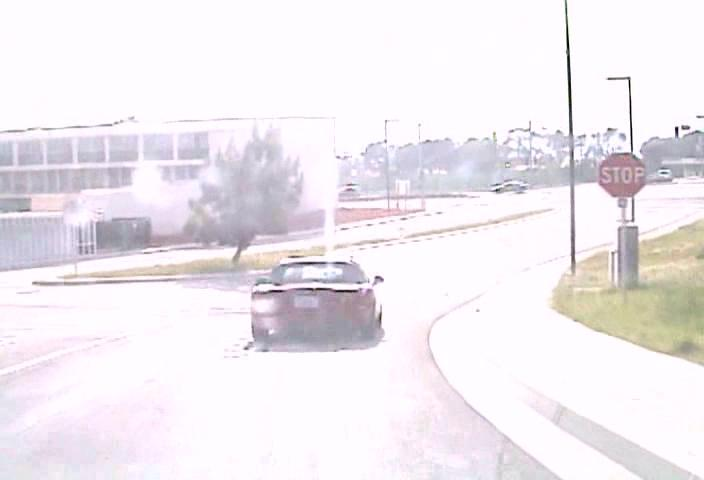stop: (597, 151, 646, 197)
